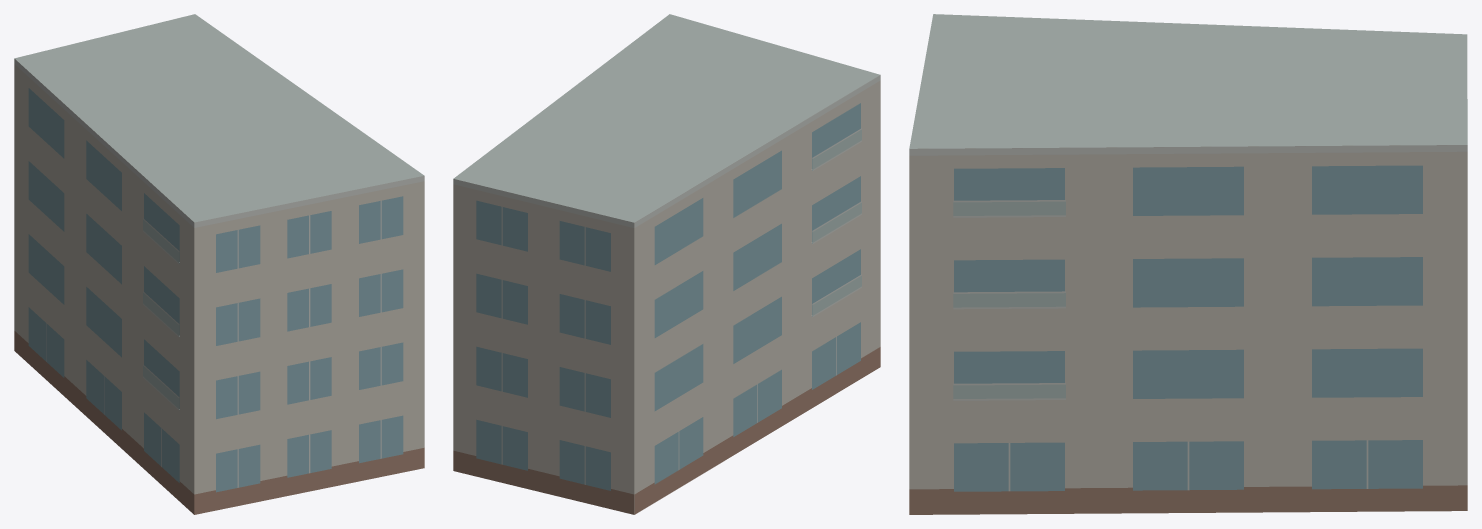
The model's file is survey-upis-32966246.glb.
3 views of the same model, side by side, from view 1: azimuth 30°, elevation 25°; view 2: azimuth 150°, elevation 25°; view 3: azimuth 270°, elevation 25° (orthographic). The views are drawn at different scales.
Parts seen in each view (by area): view 1: survey-upis-32966246.tmp; view 2: survey-upis-32966246.tmp; view 3: survey-upis-32966246.tmp.
Part boxes in pixels (bbox=[...]): survey-upis-32966246.tmp: bbox=[14, 14, 424, 514]; survey-upis-32966246.tmp: bbox=[453, 14, 880, 514]; survey-upis-32966246.tmp: bbox=[909, 14, 1467, 514].
Size of the model in its own units: 10.33 by 13.05 by 18.06.
